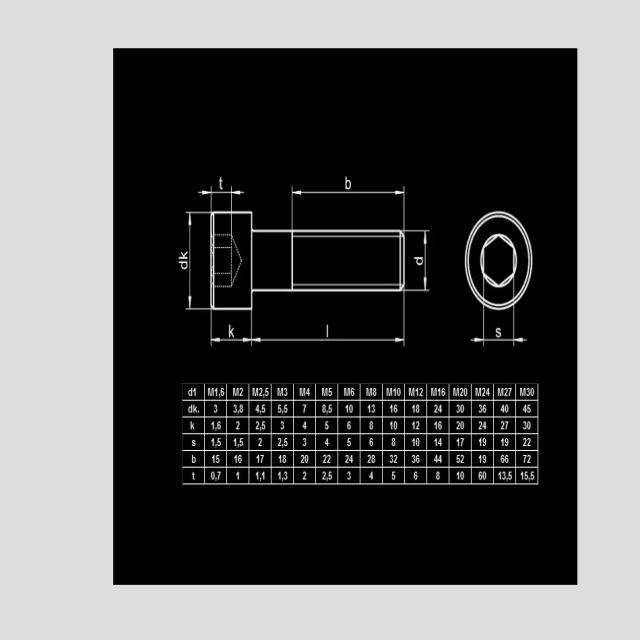marking_line: (250, 311, 405, 346), (291, 187, 405, 230), (185, 211, 209, 311), (472, 310, 528, 347), (405, 230, 431, 294), (210, 312, 254, 345), (198, 186, 245, 210)
numeric: (412, 253, 424, 266), (325, 322, 332, 339), (344, 176, 352, 190), (494, 327, 503, 339), (179, 250, 189, 260), (228, 324, 234, 338), (179, 261, 188, 270), (218, 176, 223, 189), (302, 436, 307, 448), (301, 471, 307, 481), (413, 471, 419, 481), (455, 453, 461, 463), (260, 453, 265, 464), (391, 470, 396, 481), (232, 404, 238, 413), (257, 437, 263, 446), (324, 422, 330, 431), (327, 387, 333, 396), (435, 471, 441, 480), (438, 455, 444, 464), (255, 420, 260, 430), (277, 437, 282, 447), (322, 471, 327, 481), (349, 403, 354, 413), (347, 420, 352, 430), (371, 454, 376, 464), (369, 421, 374, 431), (371, 404, 376, 414), (373, 387, 378, 397), (394, 420, 399, 430), (441, 387, 446, 397), (527, 404, 532, 414), (522, 454, 527, 464), (235, 422, 241, 430), (347, 469, 351, 481), (368, 472, 374, 480), (213, 404, 218, 413), (210, 421, 215, 430), (210, 471, 215, 480), (235, 471, 240, 480), (238, 454, 243, 463), (280, 421, 285, 430), (283, 438, 288, 447), (302, 404, 307, 413), (239, 388, 244, 397), (306, 388, 311, 397), (368, 438, 373, 447), (416, 404, 421, 413), (438, 421, 443, 430), (456, 421, 461, 430), (460, 471, 465, 480), (478, 404, 483, 413), (482, 454, 487, 463), (500, 405, 505, 414), (500, 421, 505, 430), (504, 437, 509, 446), (501, 471, 506, 480), (522, 404, 527, 413), (367, 403, 371, 414), (456, 470, 460, 481), (505, 454, 509, 465), (216, 454, 220, 464), (217, 471, 221, 481), (256, 455, 260, 465), (262, 404, 266, 414), (262, 421, 267, 429), (284, 470, 288, 480), (265, 386, 269, 396), (303, 422, 308, 430), (328, 471, 332, 481), (327, 455, 331, 465), (322, 403, 326, 413), (347, 437, 351, 447), (393, 387, 397, 397), (390, 403, 394, 413), (394, 404, 398, 414), (416, 422, 421, 430), (433, 455, 438, 463), (459, 387, 463, 397), (464, 387, 468, 397), (461, 403, 465, 413), (460, 438, 465, 446), (483, 403, 487, 413), (478, 420, 482, 430), (479, 454, 483, 464), (504, 387, 508, 397), (508, 387, 512, 397), (508, 471, 512, 481), (527, 437, 531, 447), (531, 470, 535, 480), (530, 388, 535, 396), (211, 437, 215, 446), (217, 421, 221, 430), (218, 437, 222, 446), (233, 438, 237, 447), (240, 437, 244, 446), (262, 471, 266, 480), (259, 388, 263, 397), (301, 454, 305, 463), (305, 454, 309, 463), (328, 404, 332, 413), (345, 404, 349, 413), (349, 454, 353, 463), (392, 437, 396, 446), (394, 455, 398, 464), (412, 404, 416, 413), (419, 388, 423, 397), (416, 438, 420, 447), (416, 454, 420, 463), (434, 404, 438, 413), (456, 404, 460, 413), (456, 438, 460, 447), (482, 388, 486, 397), (483, 438, 487, 447), (479, 471, 483, 480), (483, 471, 487, 480), (505, 404, 509, 413), (505, 421, 509, 430), (527, 421, 531, 430), (523, 438, 527, 447), (278, 470, 281, 481), (434, 420, 437, 431), (211, 455, 215, 463), (278, 404, 282, 412), (284, 404, 288, 412), (221, 388, 225, 396), (284, 388, 288, 396), (351, 388, 355, 396), (345, 455, 349, 463), (367, 455, 371, 463), (397, 388, 401, 396), (411, 455, 415, 463), (486, 388, 490, 396), (500, 455, 504, 463), (527, 455, 531, 463), (519, 472, 523, 480), (256, 403, 259, 413), (256, 471, 259, 481), (279, 454, 282, 464), (283, 454, 286, 464), (323, 454, 326, 464), (416, 388, 419, 398), (412, 421, 415, 431), (439, 403, 442, 413), (439, 437, 442, 447), (478, 437, 481, 447), (498, 471, 501, 481), (523, 420, 526, 430), (527, 387, 530, 397), (525, 472, 529, 479), (234, 455, 237, 464), (240, 404, 243, 413), (390, 422, 393, 431), (412, 438, 415, 447), (461, 454, 464, 463), (501, 438, 504, 447), (215, 388, 218, 396), (325, 438, 328, 446), (390, 455, 393, 463), (434, 437, 437, 445), (461, 421, 464, 429), (483, 422, 486, 430), (438, 387, 440, 396)
